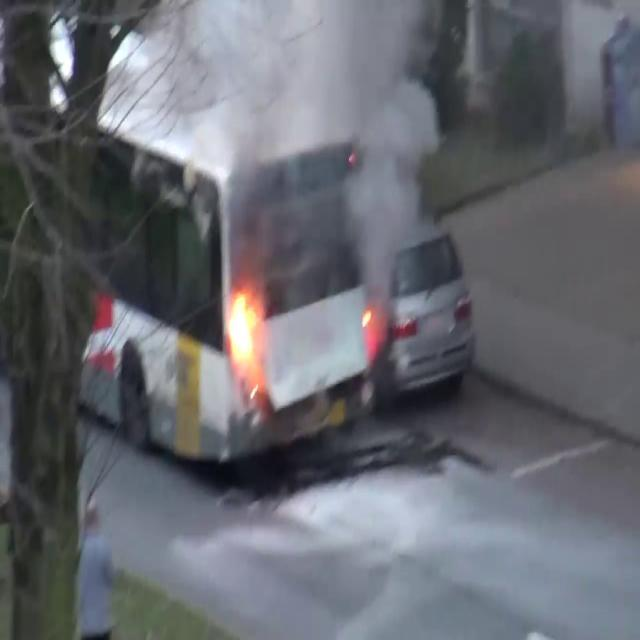Fire: (224, 274, 264, 382)
Smoke: (206, 0, 464, 343)
